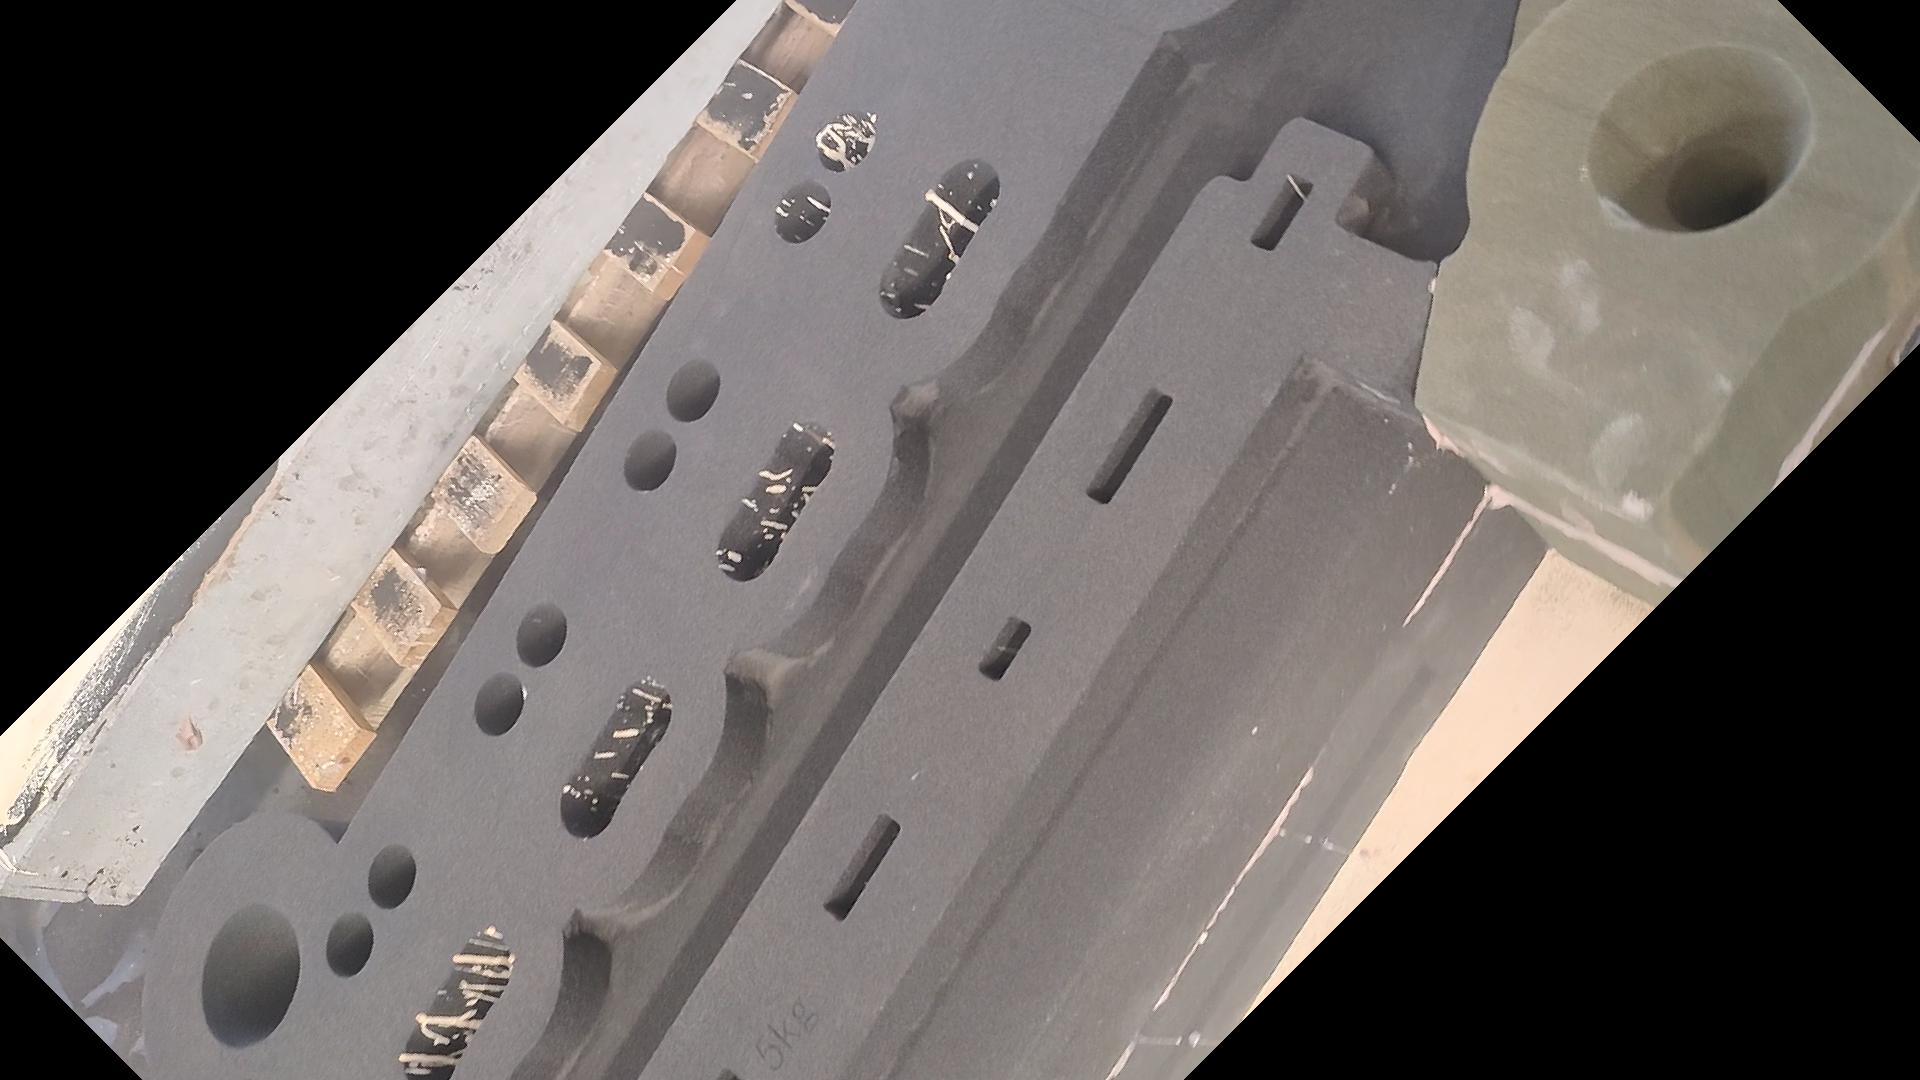pouring hole: (1584, 44, 1813, 233), (200, 903, 301, 1044)
